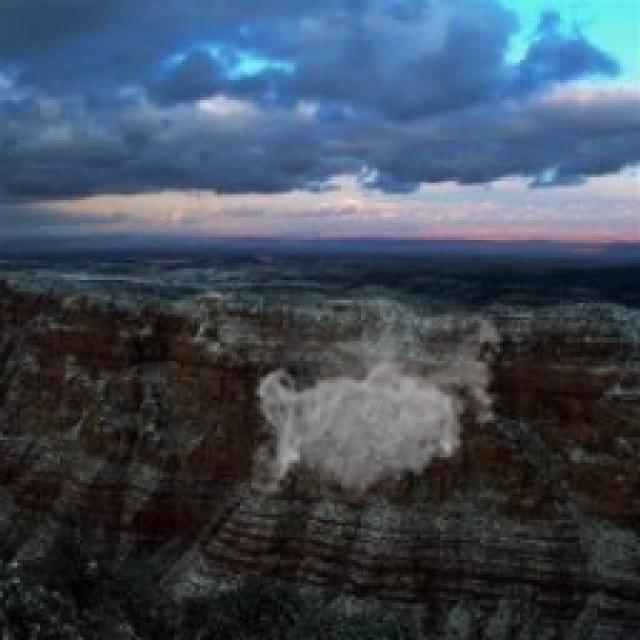Smoke: (252, 294, 512, 506)
